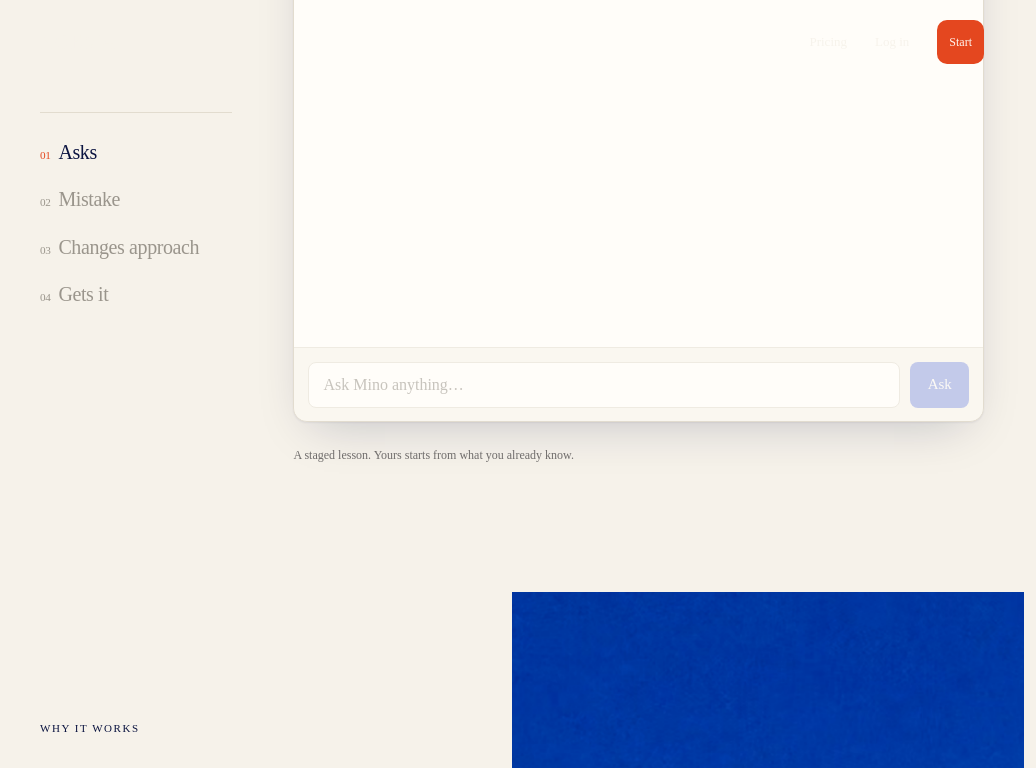
LandingPage › falls back to the written sample when the tutor is unavailable, and says so
(page scrolled)
In the field named "Your turn: ask about any subject": (604, 385) [308, 362, 900, 408], type "Italian"
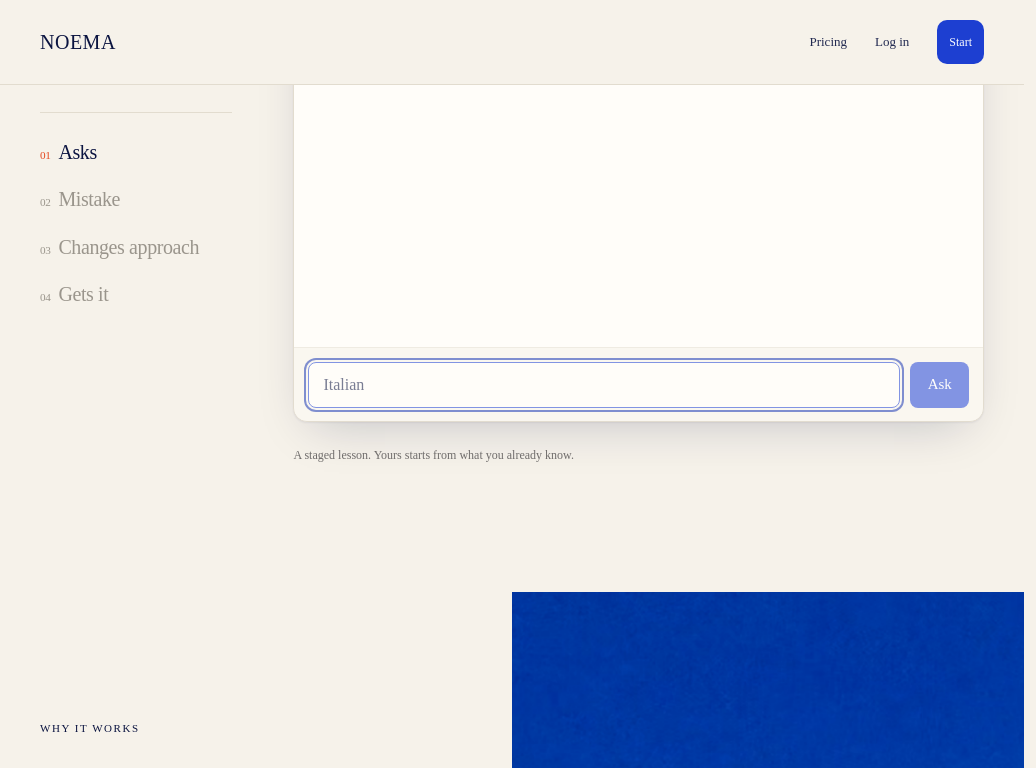
Click the button "Ask": (940, 385) [910, 362, 969, 408]
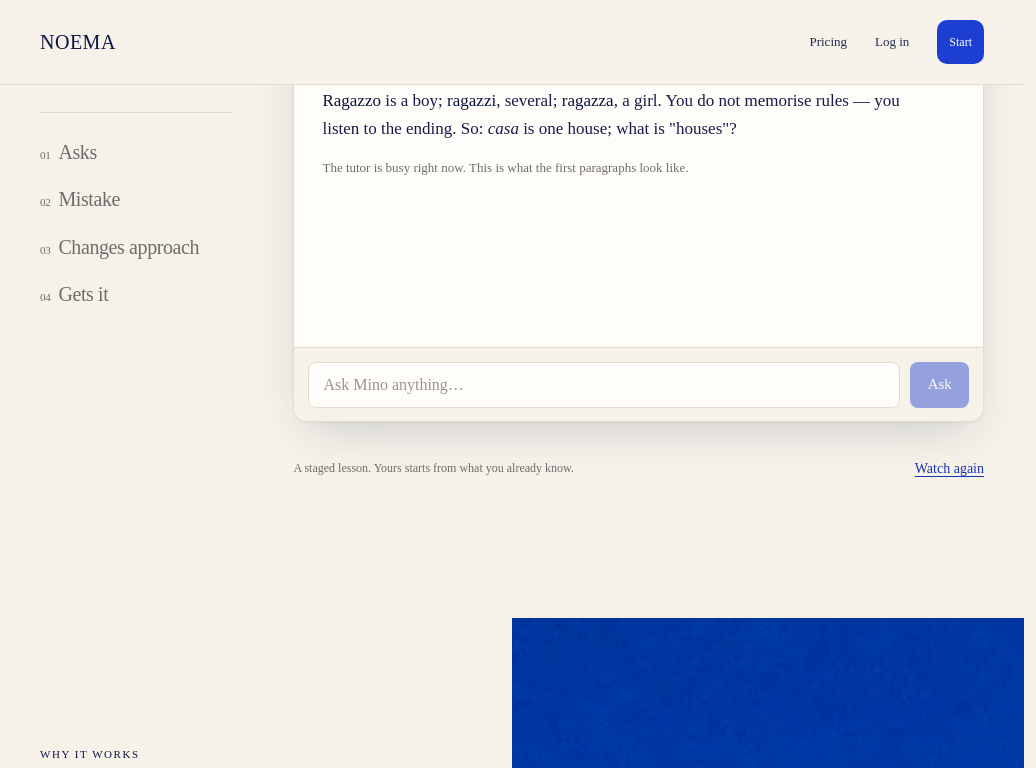
Expected: the text "The tutor is busy right now" is shown, [322, 160, 688, 175]
Expected: the text "Ragazzo" is shown, [322, 92, 381, 110]
